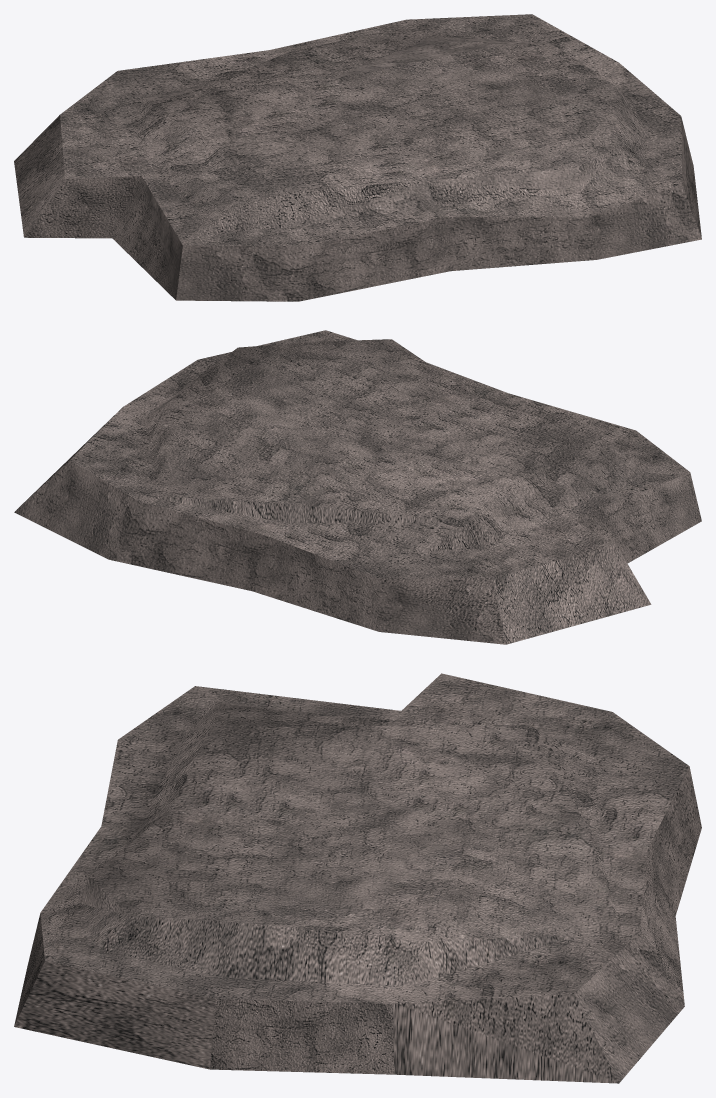
Rendered from FlatRock2.FBX.
The picture shows the model from 3 angles, top to bottom: view 1: azimuth 30°, elevation 25°; view 2: azimuth 150°, elevation 25°; view 3: azimuth 270°, elevation 25°; orthographic projection. The views are drawn at different scales.
Parts seen in each view (by area): view 1: FlatRock2; view 2: FlatRock2; view 3: FlatRock2.
Part boxes in pixels (x1,y1,x2,y2): FlatRock2: [14, 14, 701, 301]; FlatRock2: [14, 330, 701, 644]; FlatRock2: [14, 673, 701, 1083].
Bounding box in the file's own units: 126 × 17.11 × 99.21.
1 material, 1 textured.
